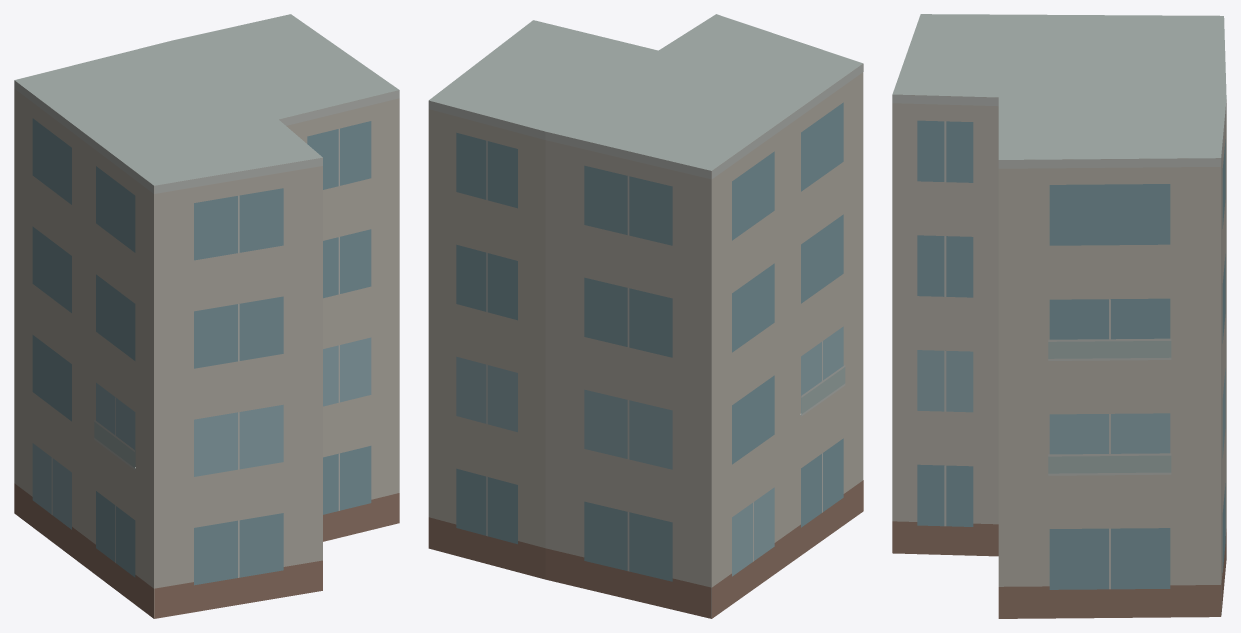
The model's file is survey-upis-32471750.glb.
The picture shows the model from 3 angles, left to right: view 1: azimuth 30°, elevation 25°; view 2: azimuth 150°, elevation 25°; view 3: azimuth 270°, elevation 25°; orthographic projection. The views are drawn at different scales.
Parts seen in each view (by area): view 1: survey-upis-32471750.tmp; view 2: survey-upis-32471750.tmp; view 3: survey-upis-32471750.tmp.
Boxes of the visible parts, box(x1,y1,x2,y2) form: survey-upis-32471750.tmp: box(14, 14, 399, 618); survey-upis-32471750.tmp: box(428, 14, 863, 618); survey-upis-32471750.tmp: box(892, 14, 1226, 618).
Bounding box in the file's own units: 8.77 × 12.8 × 8.46.
